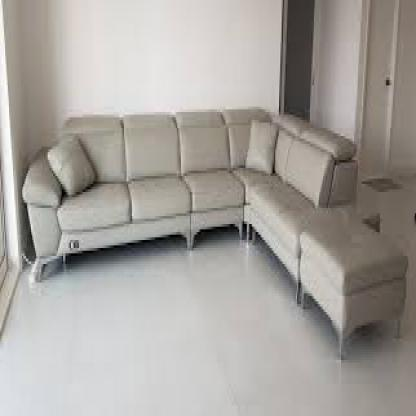sofa: (19, 104, 404, 355)
